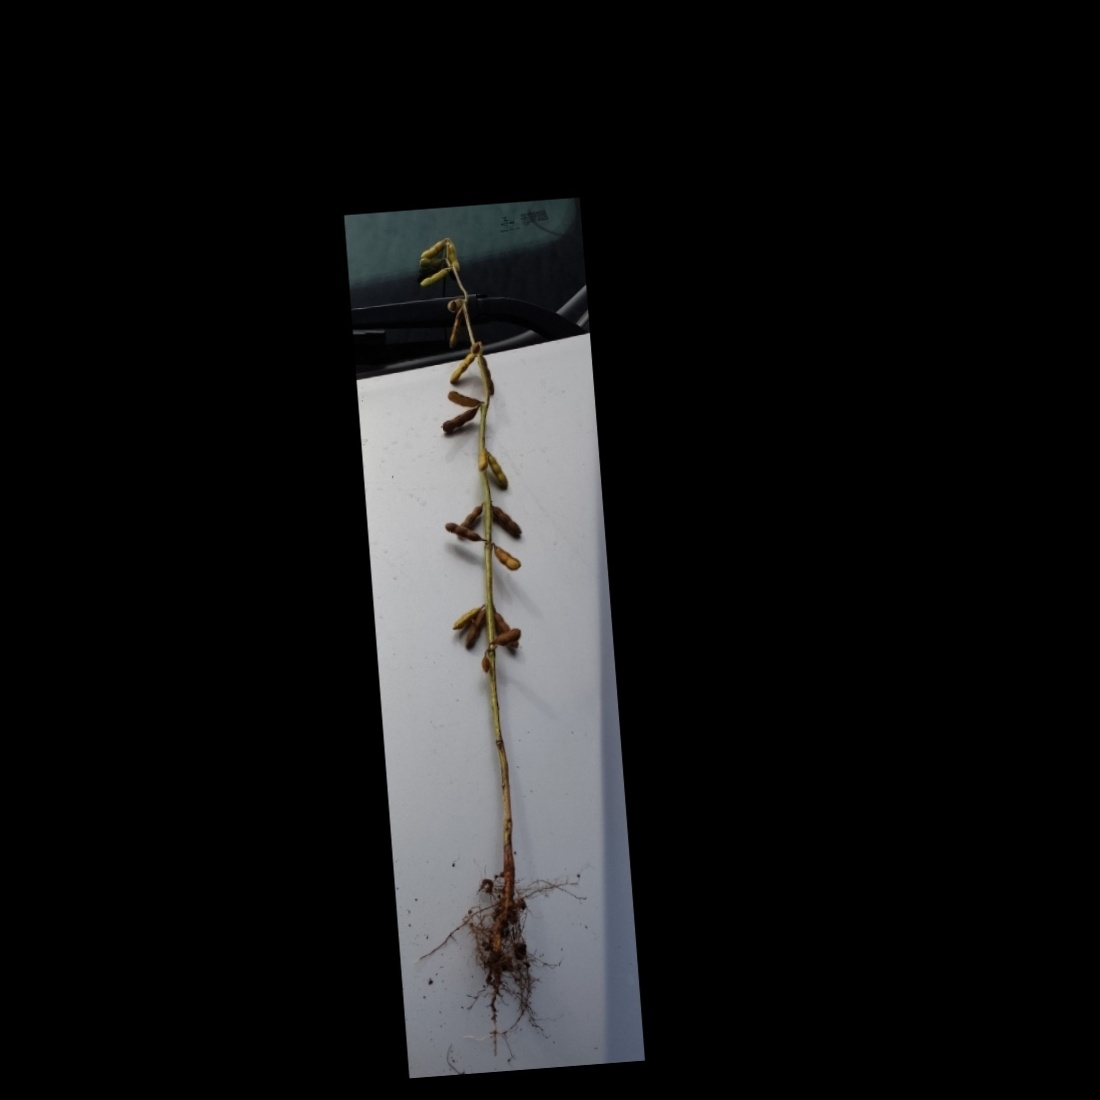pod: (445, 347, 485, 388), (436, 403, 486, 435), (488, 500, 524, 539), (459, 606, 491, 652), (442, 515, 486, 547), (483, 448, 512, 496), (444, 305, 471, 350), (489, 543, 525, 573), (416, 236, 454, 263), (448, 604, 488, 631), (417, 264, 455, 289)
soy: (375, 224, 571, 1008)
